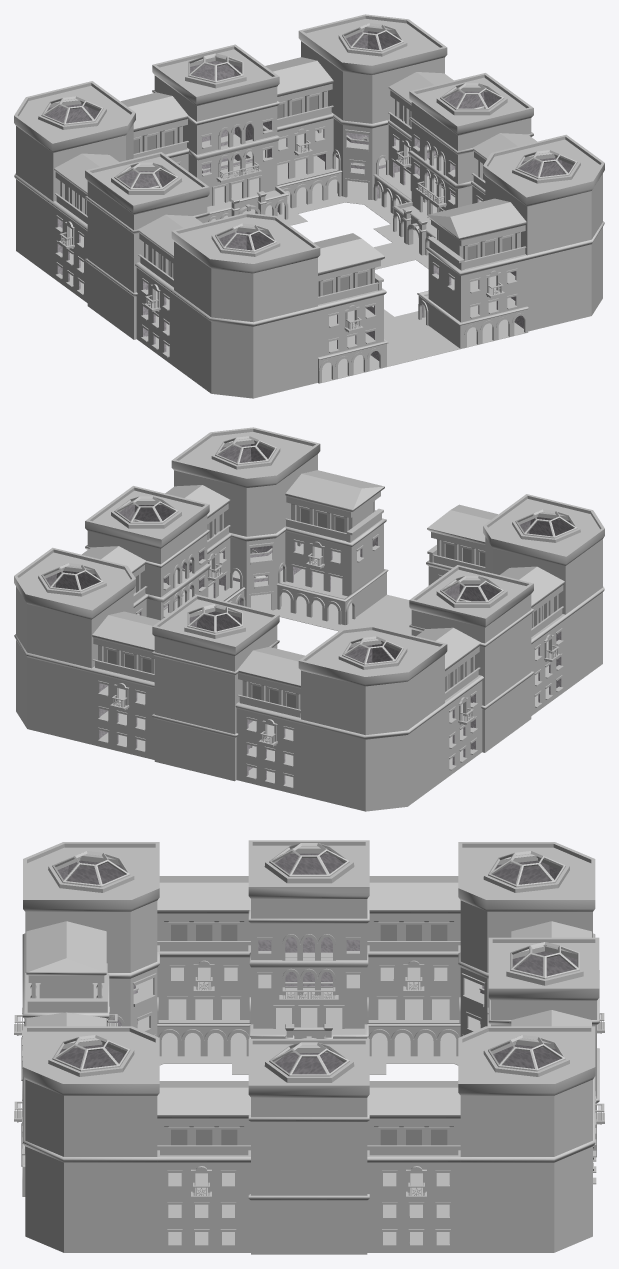
File: SM_Museum.fbx
3 views of the same model, one above another, from view 1: azimuth 30°, elevation 25°; view 2: azimuth 150°, elevation 25°; view 3: azimuth 270°, elevation 25° (orthographic). The views are drawn at different scales.
Visible parts, largest first — view 1: SM_MuseumTower_Exterior_LOD0, SM_MuseumCentral_Exterior_LOD0, SM_MuseumPassage_Exterior_LOD0, SM_MuseumEnd_Exterior_LOD0, SM_MuseumCentral_Openings_LOD0, SM_MuseumPassage_Openings_LOD0, SM_MuseumEnd_Openings_LOD0, SM_MuseumTower_Openings_LOD0, SM_Museum_CentralCourtyard_LOD0, SM_MuseumCentral_Interior_LOD0, SM_Museum_Floor0_LOD0, SM_Museum_Floor1_LOD0 (+3 smaller); view 2: SM_MuseumTower_Exterior_LOD0, SM_MuseumCentral_Exterior_LOD0, SM_MuseumPassage_Exterior_LOD0, SM_MuseumEnd_Exterior_LOD0, SM_MuseumPassage_Openings_LOD0, SM_MuseumTower_Openings_LOD0, SM_MuseumCentral_Openings_LOD0, SM_MuseumEnd_Openings_LOD0, SM_MuseumTower_Interior_LOD0, SM_MuseumCentral_Interior_LOD0, SM_Museum_Floor0_LOD0, SM_Museum_CentralCourtyard_LOD0 (+3 smaller); view 3: SM_MuseumTower_Exterior_LOD0, SM_MuseumCentral_Exterior_LOD0, SM_MuseumPassage_Exterior_LOD0, SM_MuseumPassage_Openings_LOD0, SM_MuseumEnd_Exterior_LOD0, SM_MuseumCentral_Openings_LOD0, SM_MuseumTower_Openings_LOD0, SM_MuseumCentral_Interior_LOD0, SM_Museum_Floor1_LOD0, SM_Museum_Floor0_LOD0, SM_MuseumTower_Interior_LOD0, SM_Museum_Floor2_LOD0 (+2 smaller).
Boxes of the visible parts, <box> form: SM_MuseumTower_Exterior_LOD0: <box>14,14,604,398</box>; SM_MuseumCentral_Exterior_LOD0: <box>85,44,533,339</box>; SM_MuseumPassage_Exterior_LOD0: <box>51,57,536,365</box>; SM_MuseumEnd_Exterior_LOD0: <box>314,198,528,382</box>; SM_MuseumCentral_Openings_LOD0: <box>111,53,507,255</box>; SM_MuseumPassage_Openings_LOD0: <box>55,91,485,357</box>; SM_MuseumEnd_Openings_LOD0: <box>318,229,527,383</box>; SM_MuseumTower_Openings_LOD0: <box>38,23,580,256</box>; SM_Museum_CentralCourtyard_LOD0: <box>282,196,459,366</box>; SM_MuseumCentral_Interior_LOD0: <box>119,61,499,212</box>; SM_Museum_Floor0_LOD0: <box>16,179,602,398</box>; SM_Museum_Floor1_LOD0: <box>70,156,515,349</box>; SM_MuseumTower_Exterior_LOD0: <box>14,427,604,811</box>; SM_MuseumCentral_Exterior_LOD0: <box>85,486,533,780</box>; SM_MuseumPassage_Exterior_LOD0: <box>82,485,567,795</box>; SM_MuseumEnd_Exterior_LOD0: <box>276,470,497,624</box>; SM_MuseumPassage_Openings_LOD0: <box>92,512,563,788</box>; SM_MuseumTower_Openings_LOD0: <box>38,436,580,669</box>; SM_MuseumCentral_Openings_LOD0: <box>111,496,507,747</box>; SM_MuseumEnd_Openings_LOD0: <box>277,501,485,624</box>; SM_MuseumTower_Interior_LOD0: <box>45,443,573,663</box>; SM_MuseumCentral_Interior_LOD0: <box>119,505,499,631</box>; SM_Museum_Floor0_LOD0: <box>16,592,602,811</box>; SM_Museum_CentralCourtyard_LOD0: <box>266,595,411,634</box>; SM_MuseumTower_Exterior_LOD0: <box>22,842,595,1252</box>; SM_MuseumCentral_Exterior_LOD0: <box>248,840,599,1254</box>; SM_MuseumPassage_Exterior_LOD0: <box>157,876,595,1252</box>; SM_MuseumPassage_Openings_LOD0: <box>157,921,604,1246</box>; SM_MuseumEnd_Exterior_LOD0: <box>21,921,109,1196</box>; SM_MuseumCentral_Openings_LOD0: <box>249,843,583,1082</box>; SM_MuseumTower_Openings_LOD0: <box>48,851,569,1076</box>; SM_MuseumCentral_Interior_LOD0: <box>249,853,577,1074</box>; SM_Museum_Floor1_LOD0: <box>137,999,480,1215</box>; SM_Museum_Floor0_LOD0: <box>22,1033,596,1254</box>; SM_MuseumTower_Interior_LOD0: <box>57,860,560,1068</box>; SM_Museum_Floor2_LOD0: <box>133,952,484,1189</box>.
Size of what is drawn, in the model's own units: 50.75 by 17.42 by 50.68.
